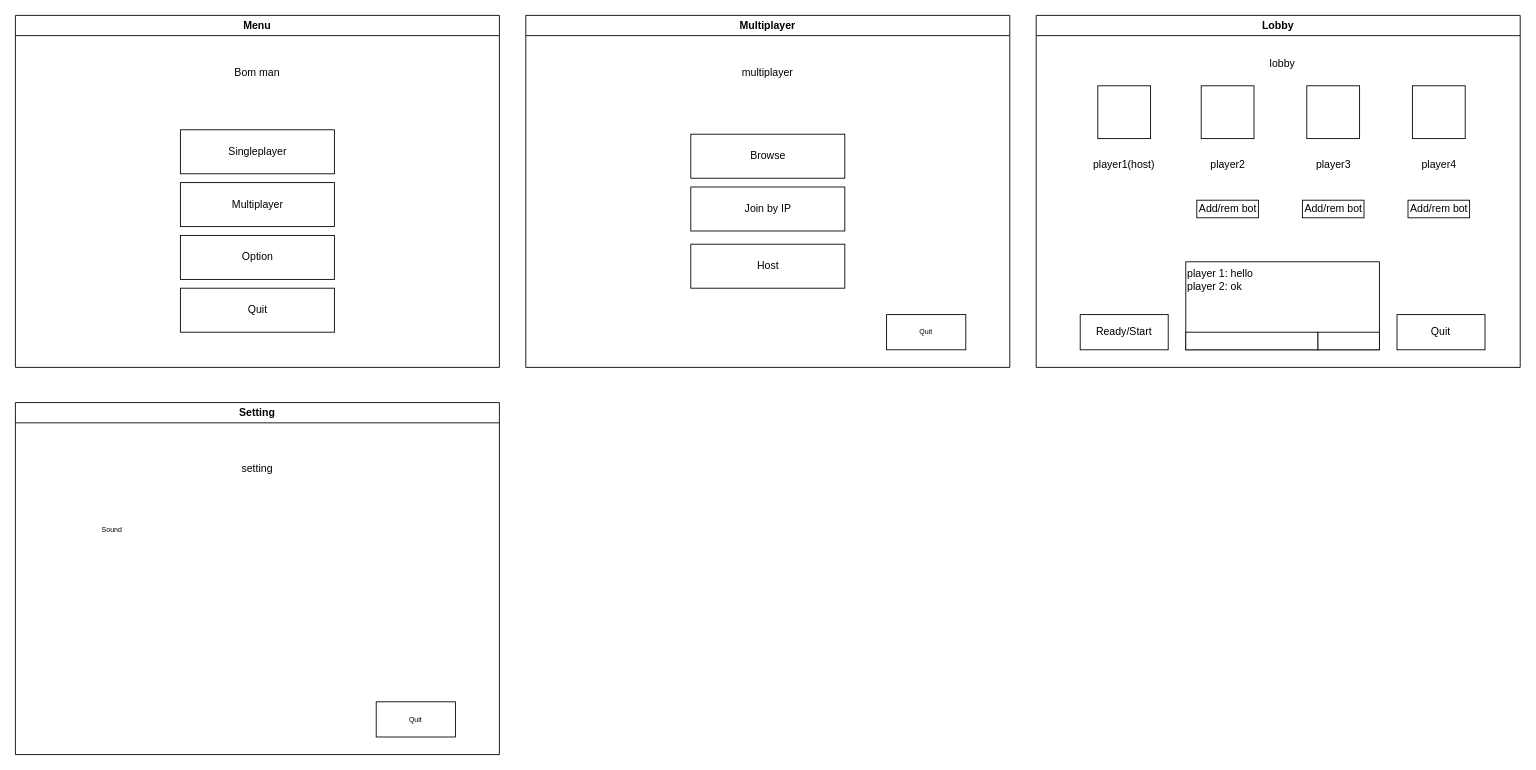
Image size: 1536x770. Some labels were removed from this diagram. Here are the shapes that lost their labels. From the top down, the centre of each, then its label:
pixel 1251 340: type
pixel 1348 340: send
